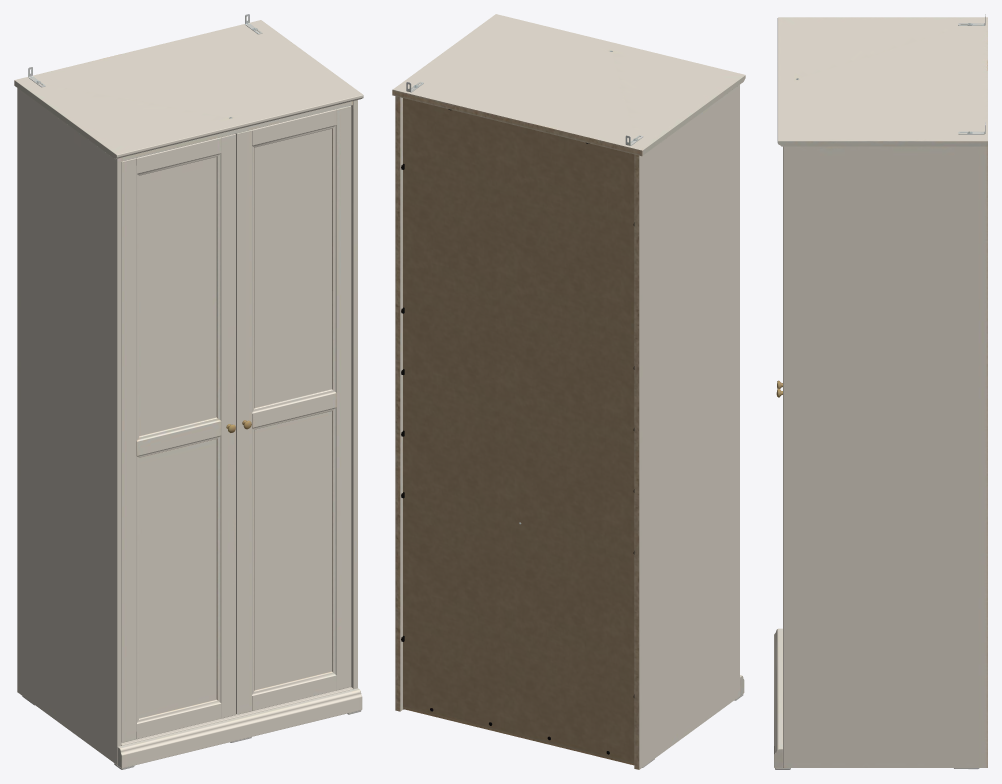
Rendered from fagelfjallet_szafa_2_drzwi_40598610.glb.
3 renders of one model, left to right at view 1: azimuth 30°, elevation 25°; view 2: azimuth 150°, elevation 25°; view 3: azimuth 270°, elevation 25°, orthographic. The views are drawn at different scales.
Visible parts, largest first — view 1: fagelfjallet_szafa_2_drzwi_40598610; view 2: fagelfjallet_szafa_2_drzwi_40598610; view 3: fagelfjallet_szafa_2_drzwi_40598610.
Boxes of the visible parts, left/top/right/bottom form: fagelfjallet_szafa_2_drzwi_40598610: left=14, top=14, right=363, bottom=769; fagelfjallet_szafa_2_drzwi_40598610: left=392, top=14, right=745, bottom=769; fagelfjallet_szafa_2_drzwi_40598610: left=774, top=14, right=987, bottom=769.
Bounding box in the file's own units: 0.816 × 1.97 × 0.5961.
Materials: 1 (1 with a texture image).
